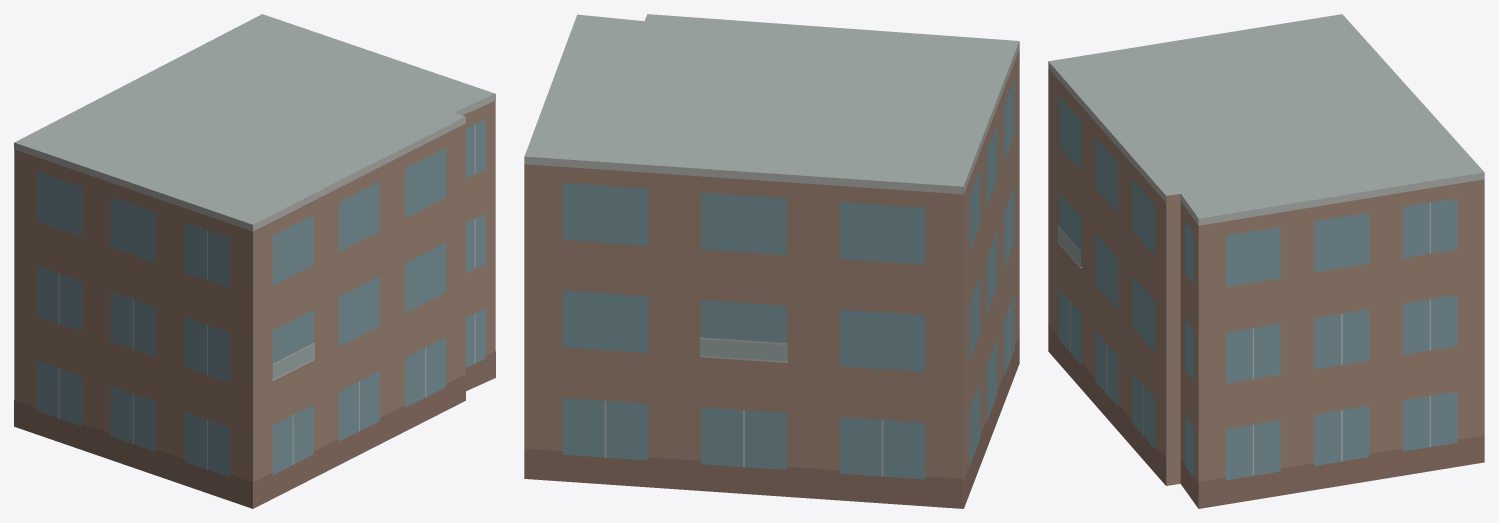
Rendered from survey-upis-32751492.glb.
3 renders of one model, left to right at view 1: azimuth 30°, elevation 25°; view 2: azimuth 150°, elevation 25°; view 3: azimuth 270°, elevation 25°, orthographic. The views are drawn at different scales.
Visible parts, largest first — view 1: survey-upis-32751492.tmp; view 2: survey-upis-32751492.tmp; view 3: survey-upis-32751492.tmp.
Part boxes in pixels (x1=…): survey-upis-32751492.tmp: x1=14, y1=14, x2=495, y2=508; survey-upis-32751492.tmp: x1=524, y1=14, x2=1019, y2=508; survey-upis-32751492.tmp: x1=1048, y1=14, x2=1484, y2=508.
Bounding box in the file's own units: 15.46 × 10.2 × 13.92.
